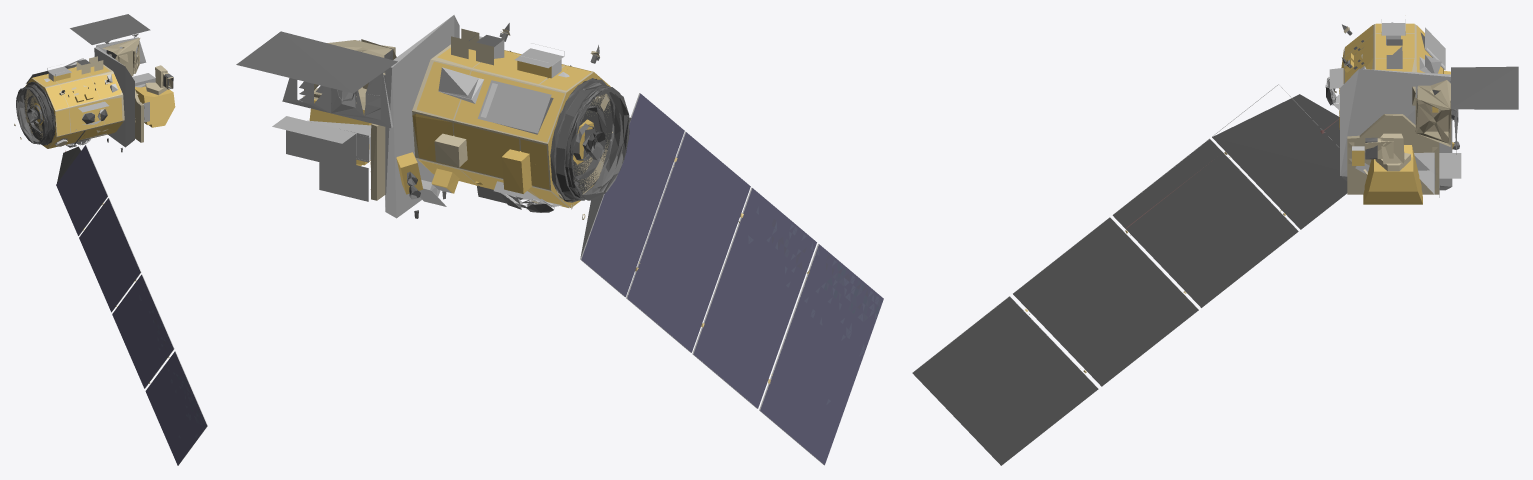
Rendered from landsat-8-preview.glb.
3 views of the same model, side by side, from view 1: azimuth 30°, elevation 25°; view 2: azimuth 150°, elevation 25°; view 3: azimuth 270°, elevation 25° (orthographic). The views are drawn at different scales.
Visible parts, largest first — view 1: Layer_0; view 2: Layer_0; view 3: Layer_0.
Part boxes in pixels (x1,y1,x2,y2): Layer_0: (14, 14, 207, 465); Layer_0: (236, 15, 883, 465); Layer_0: (912, 19, 1518, 465).
Size of the model in its own units: 4.97 by 9.99 by 12.21.
